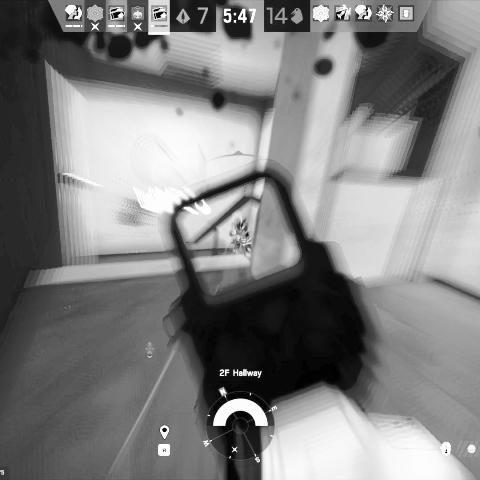Character: (229, 210, 251, 258)
Head: (232, 211, 243, 224)
